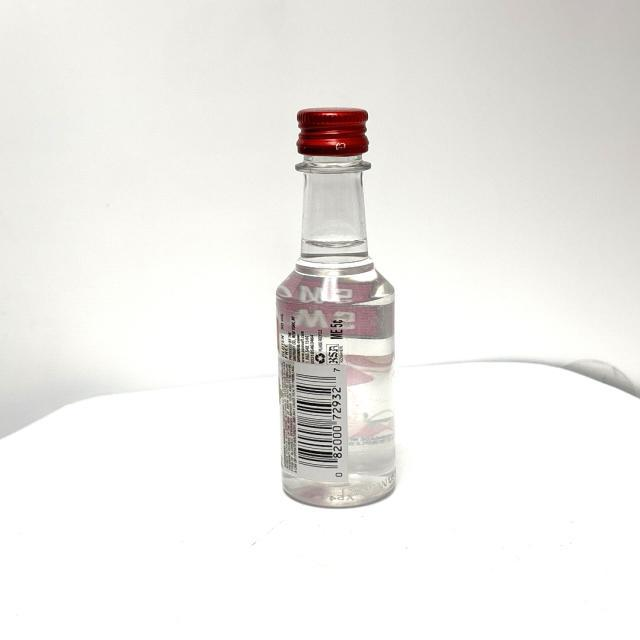SMIRNOFF STRAWBERRY 50ML: (264, 89, 409, 530)
